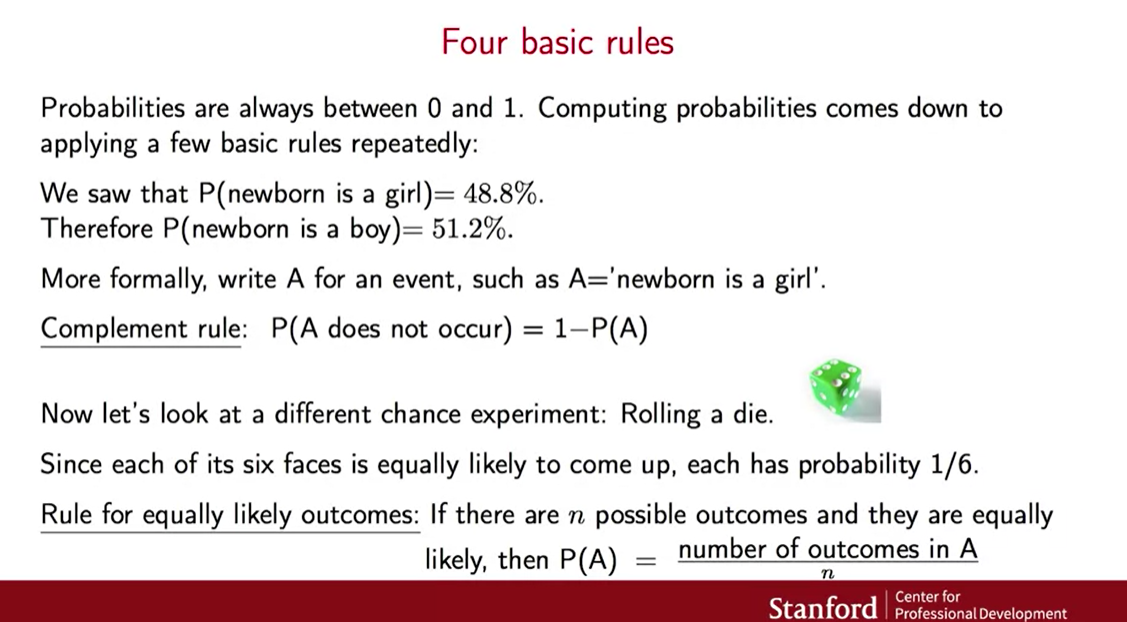equation: (560, 536, 983, 579), (268, 313, 650, 347), (162, 213, 505, 246), (199, 179, 540, 207), (569, 262, 821, 294)
figure: (797, 356, 884, 428)
text: (35, 92, 1003, 159), (39, 496, 1061, 531), (40, 449, 987, 481), (40, 400, 774, 429), (38, 262, 564, 295), (768, 587, 1070, 622), (436, 23, 683, 58), (33, 314, 251, 344), (38, 177, 191, 207), (422, 542, 552, 575), (41, 215, 160, 241)
